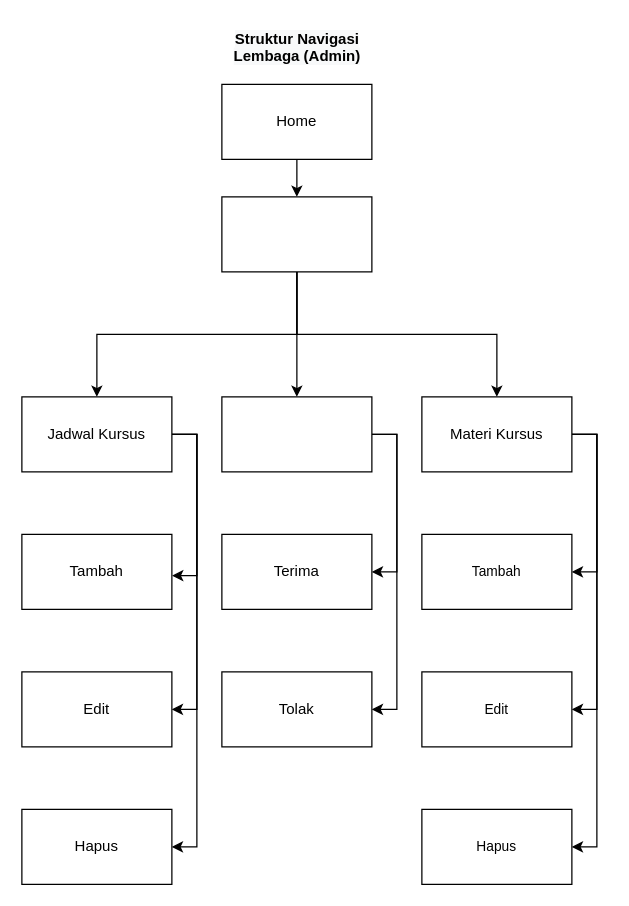
The diagram is 629 pixels wide and 906 high, and some of its shapes have lost their labels. The shapes that lost their labels are listed below. From the top down, each one's centre as x and y in pixels, then its label:
At (x=296, y=234): "Login".
At (x=296, y=434): "Pendaftaran".
